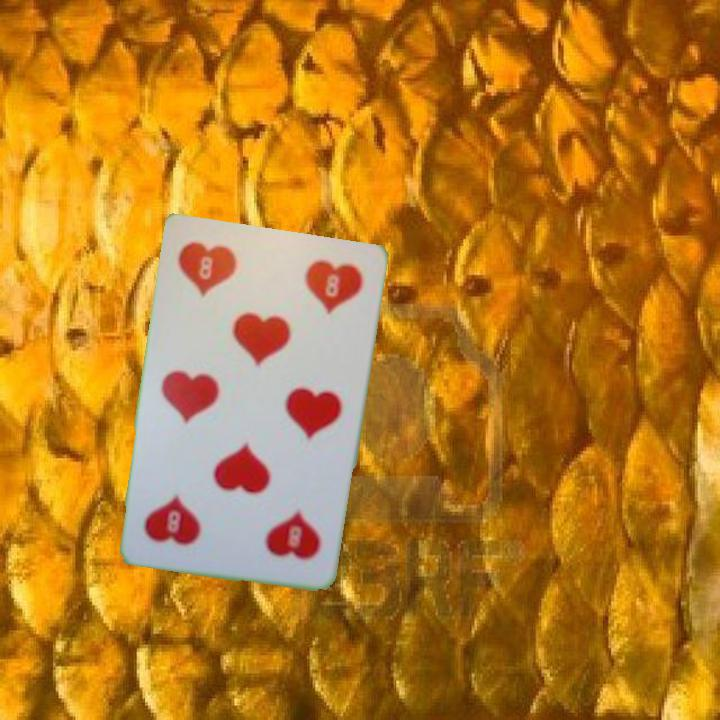h_8.png: (167, 230, 278, 330), (224, 478, 335, 577)
